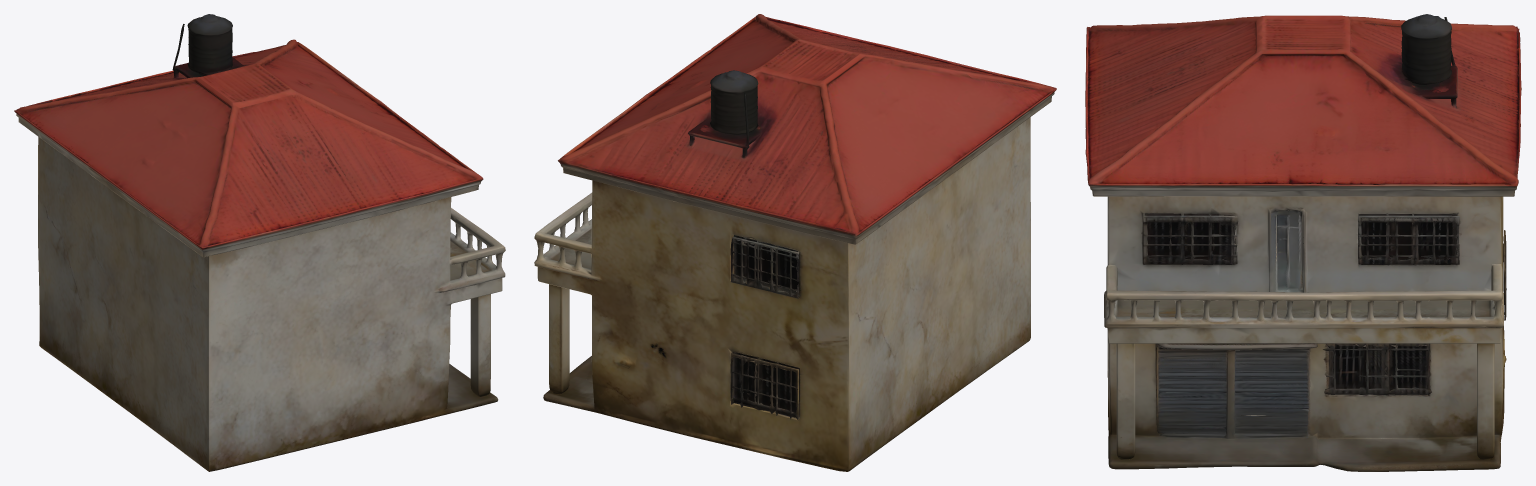
Rendered from house.glb.
3 views of the same model, side by side, from view 1: azimuth 30°, elevation 25°; view 2: azimuth 150°, elevation 25°; view 3: azimuth 270°, elevation 25° (orthographic). The views are drawn at different scales.
Parts seen in each view (by area): view 1: tripo_node_f024ef3e-dddf-4bbf-9c0b-fd5b884c061f; view 2: tripo_node_f024ef3e-dddf-4bbf-9c0b-fd5b884c061f; view 3: tripo_node_f024ef3e-dddf-4bbf-9c0b-fd5b884c061f.
Boxes of the visible parts, box(x1,y1,x2,y2) form: tripo_node_f024ef3e-dddf-4bbf-9c0b-fd5b884c061f: box(14, 14, 505, 471); tripo_node_f024ef3e-dddf-4bbf-9c0b-fd5b884c061f: box(534, 14, 1056, 471); tripo_node_f024ef3e-dddf-4bbf-9c0b-fd5b884c061f: box(1085, 14, 1521, 471).
Bounding box in the file's own units: 6.1 × 6 × 6.42.
1 material, 1 textured.
